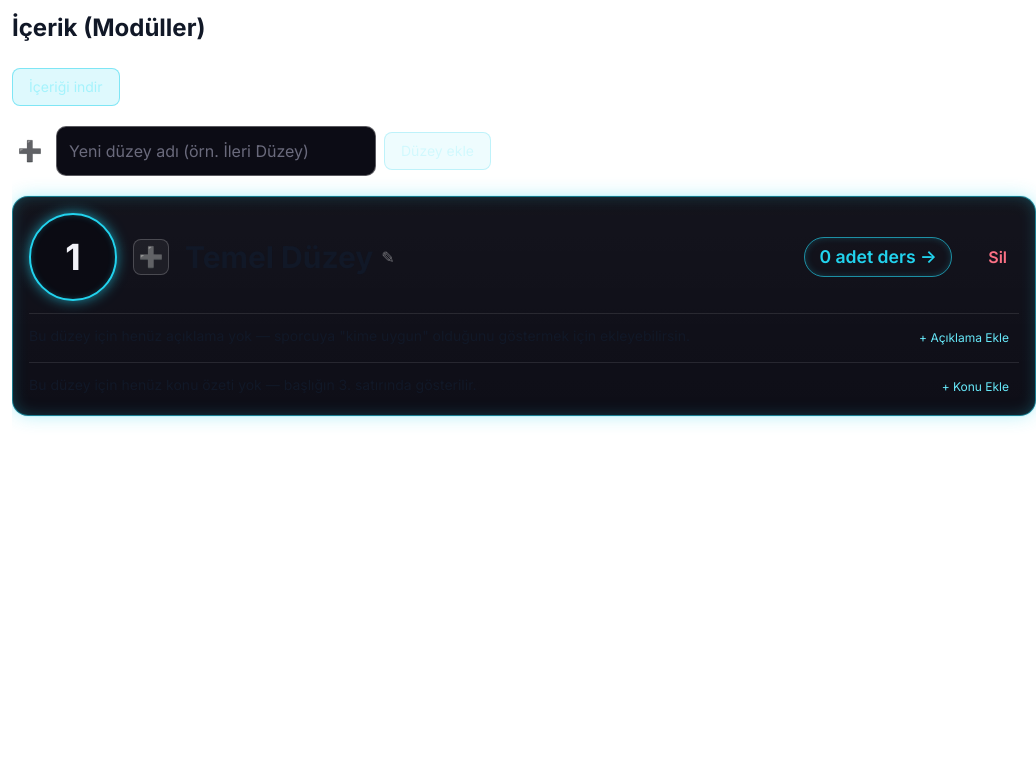
Test: Admin içerik sayfası — düzey açıklaması (madde 2026-09-05 (1)) › "+ Açıklama Ekle" tıklanınca textarea açılır ve modül adına uygun öneri butonu görünür
Click the button "+ Açıklama Ekle" at (964, 338), box [909,326,1019,350]
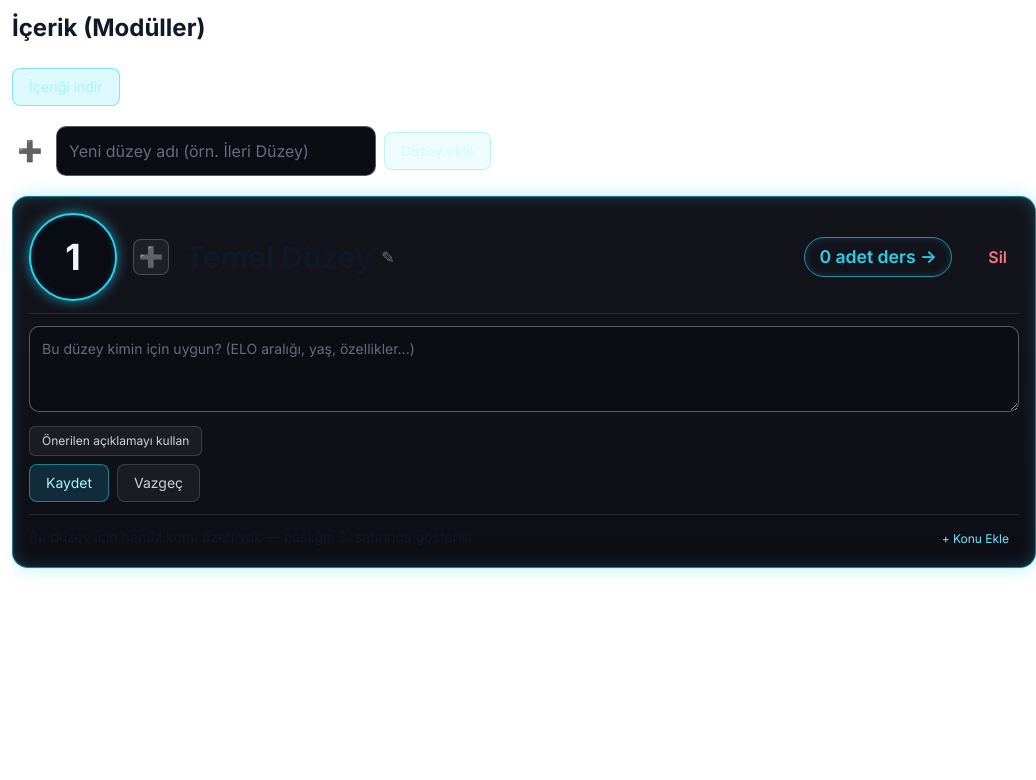
Result: the text box with placeholder "Bu düzey kimin için uygun" is shown at [29,326,1019,412]
Result: the button "Önerilen açıklamayı kullan" is shown at [29,426,202,456]
